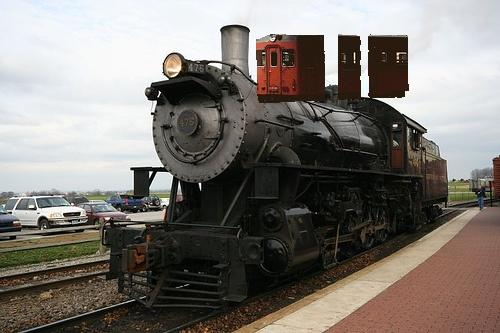tampered: (257, 35, 409, 103)
